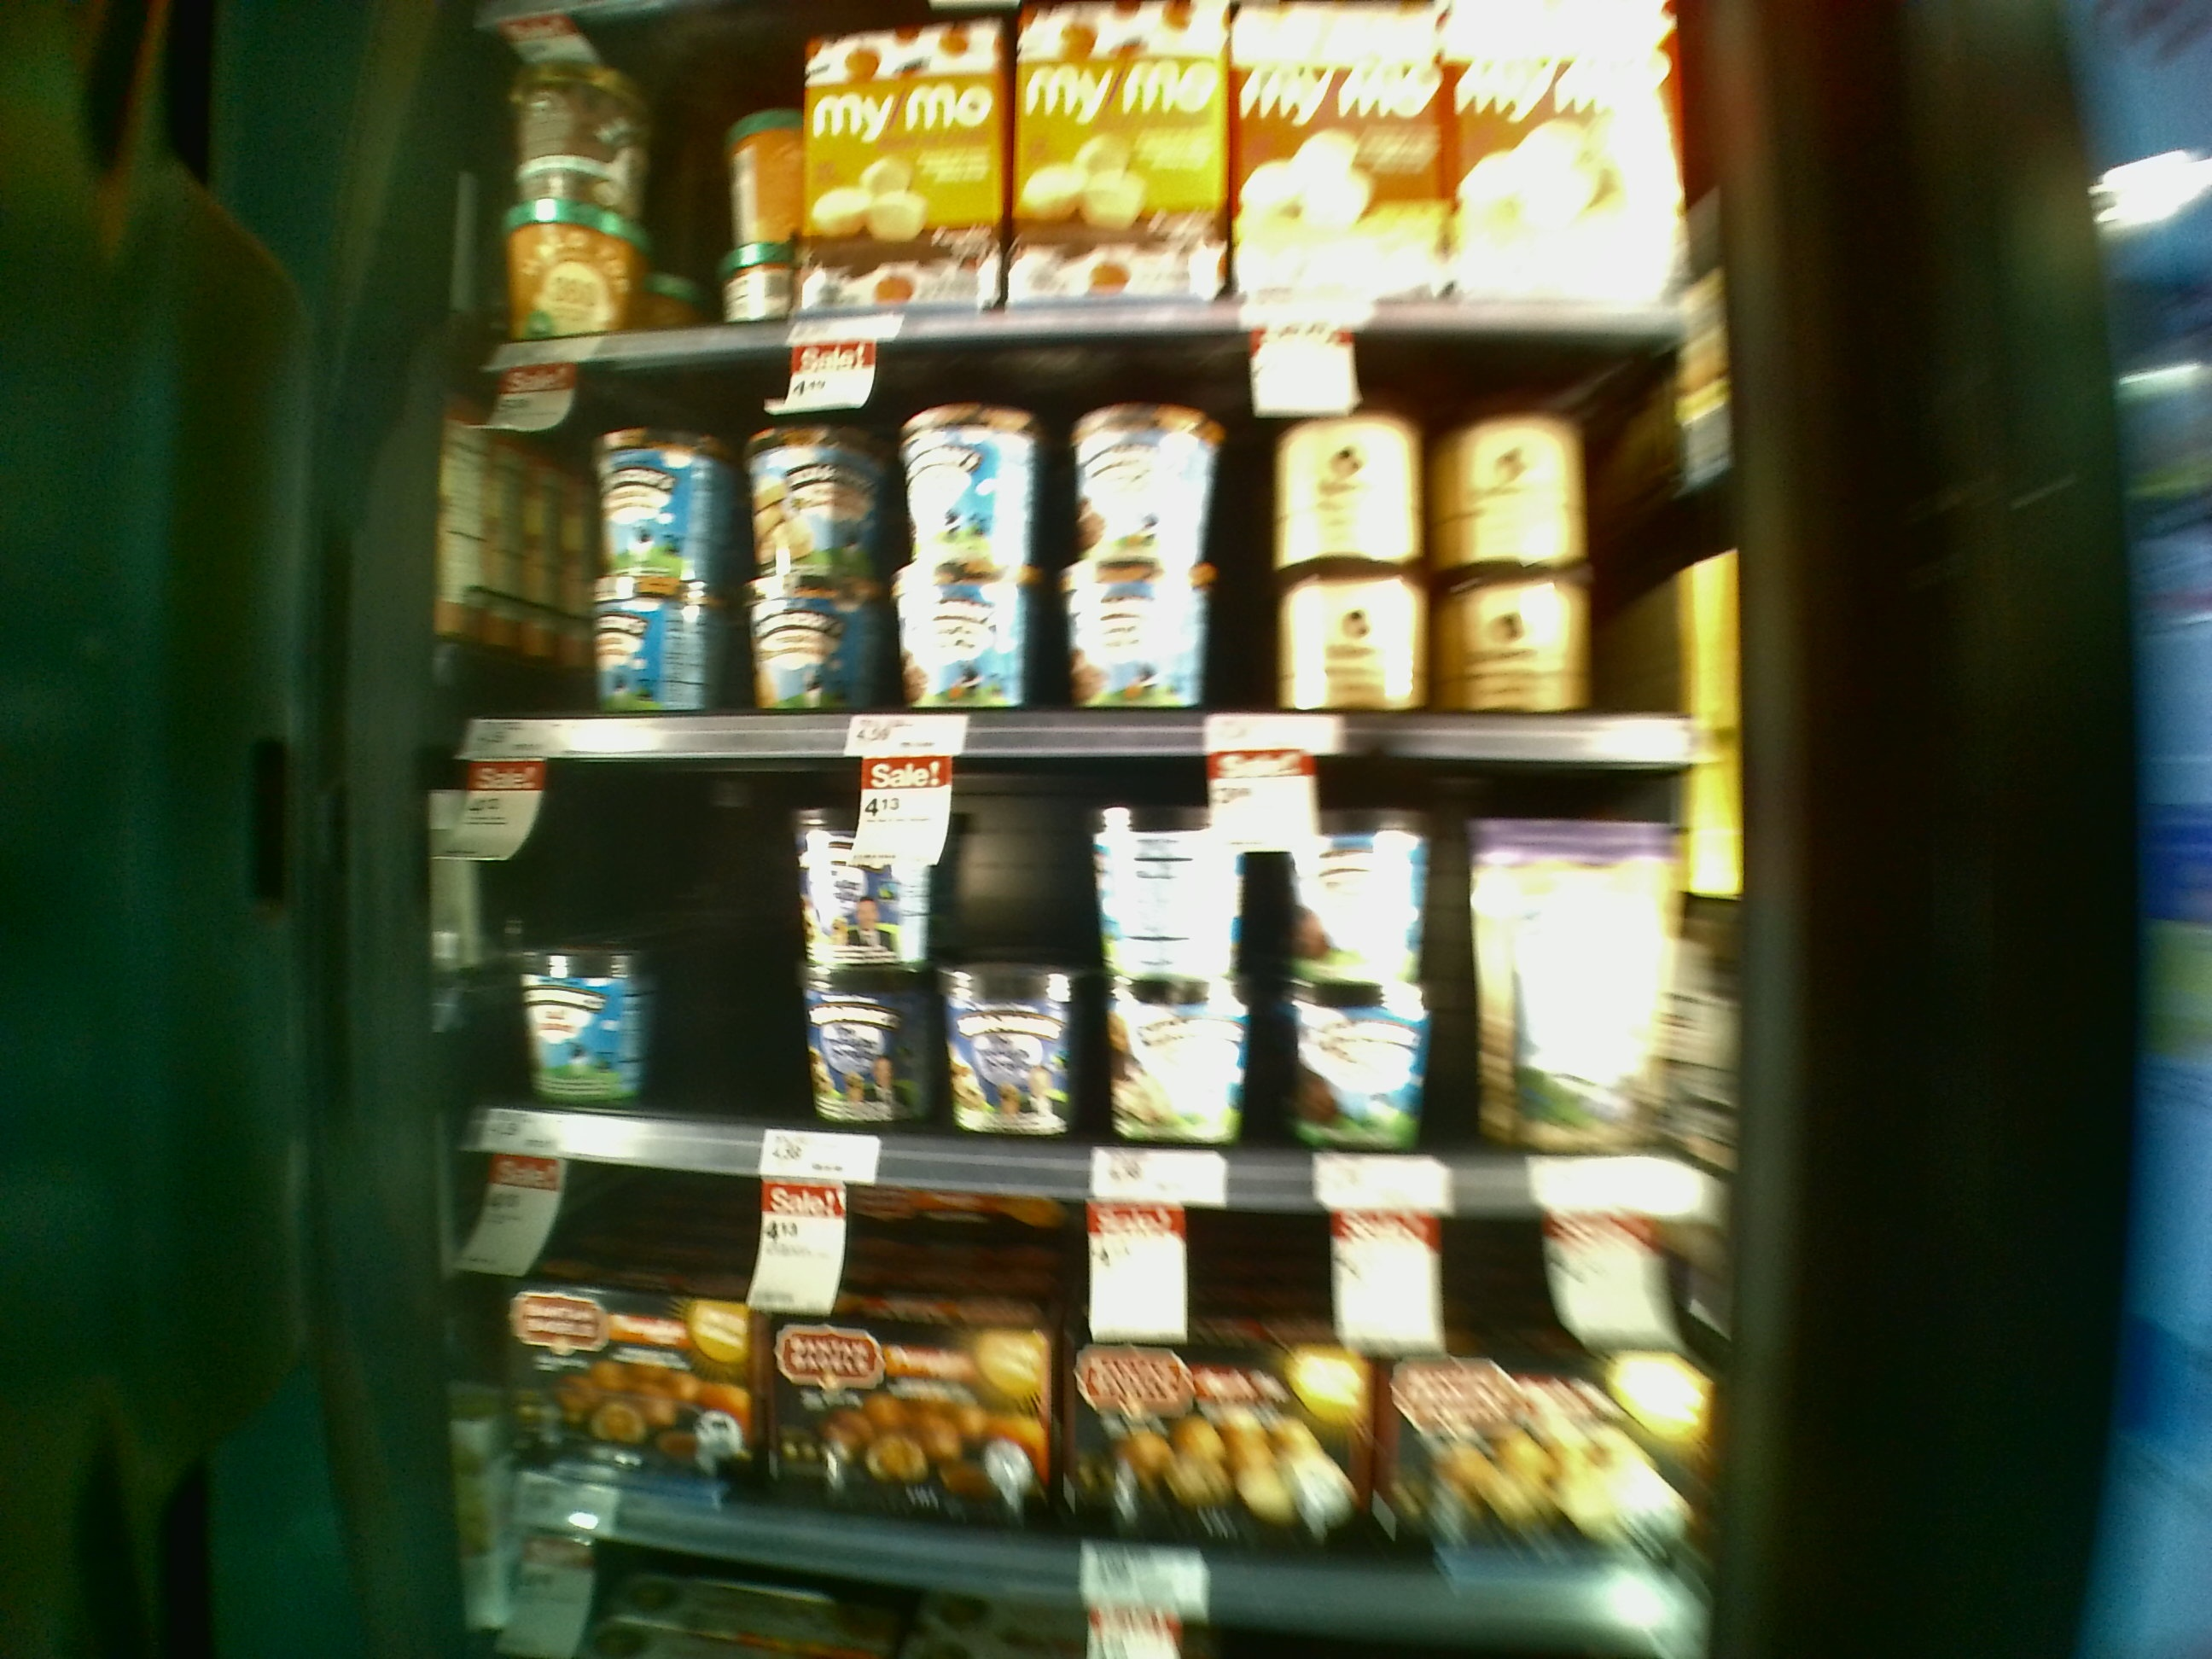shelf: (469, 1133, 1724, 1635), (451, 742, 1726, 1213), (467, 359, 1712, 769)
